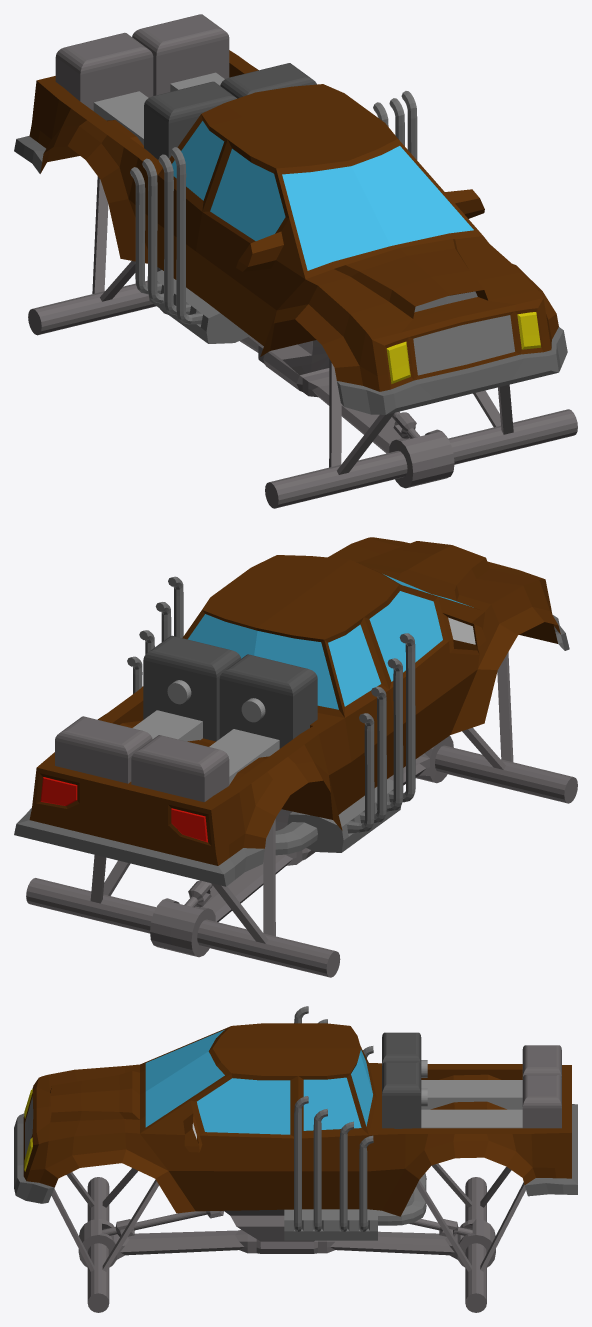
File: monstertruck.fbx
3 renders of one model, top to bottom at view 1: azimuth 30°, elevation 25°; view 2: azimuth 150°, elevation 25°; view 3: azimuth 270°, elevation 25°, orthographic. The views are drawn at different scales.
Visible parts, largest first — view 1: TRANSMISSION SHAFT 1; view 2: TRANSMISSION SHAFT 1; view 3: TRANSMISSION SHAFT 1.
Part boxes in pixels (bbox=[...]): TRANSMISSION SHAFT 1: bbox=[14, 14, 577, 508]; TRANSMISSION SHAFT 1: bbox=[14, 537, 577, 977]; TRANSMISSION SHAFT 1: bbox=[14, 1006, 577, 1312].
Size of the model in its own units: 193 by 166 by 396.
